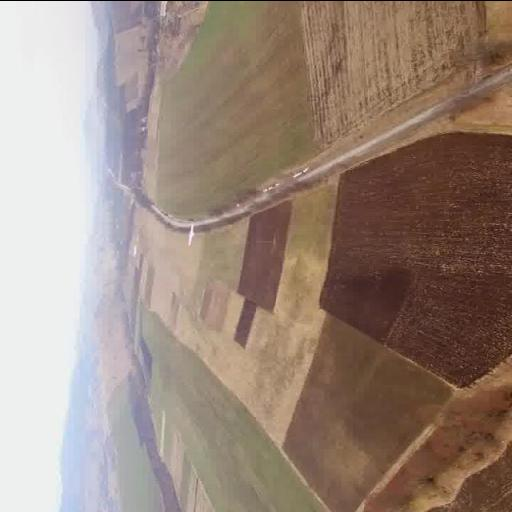uav: (182, 220, 205, 248)
